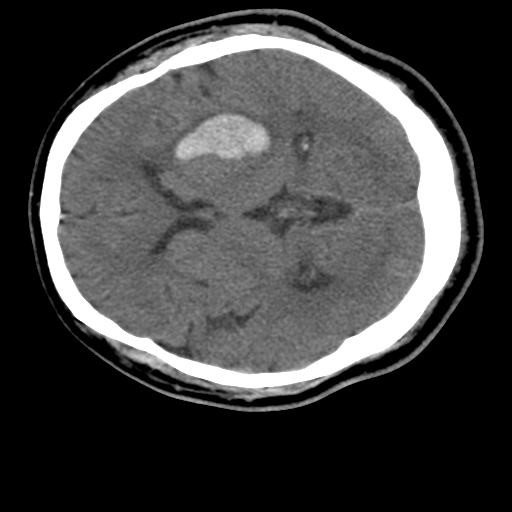a: (154, 97, 288, 178)
